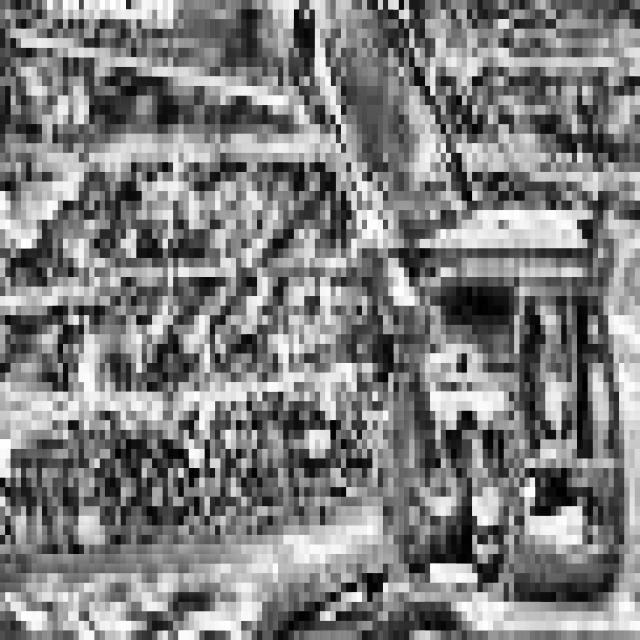excavator: (267, 210, 640, 640)
